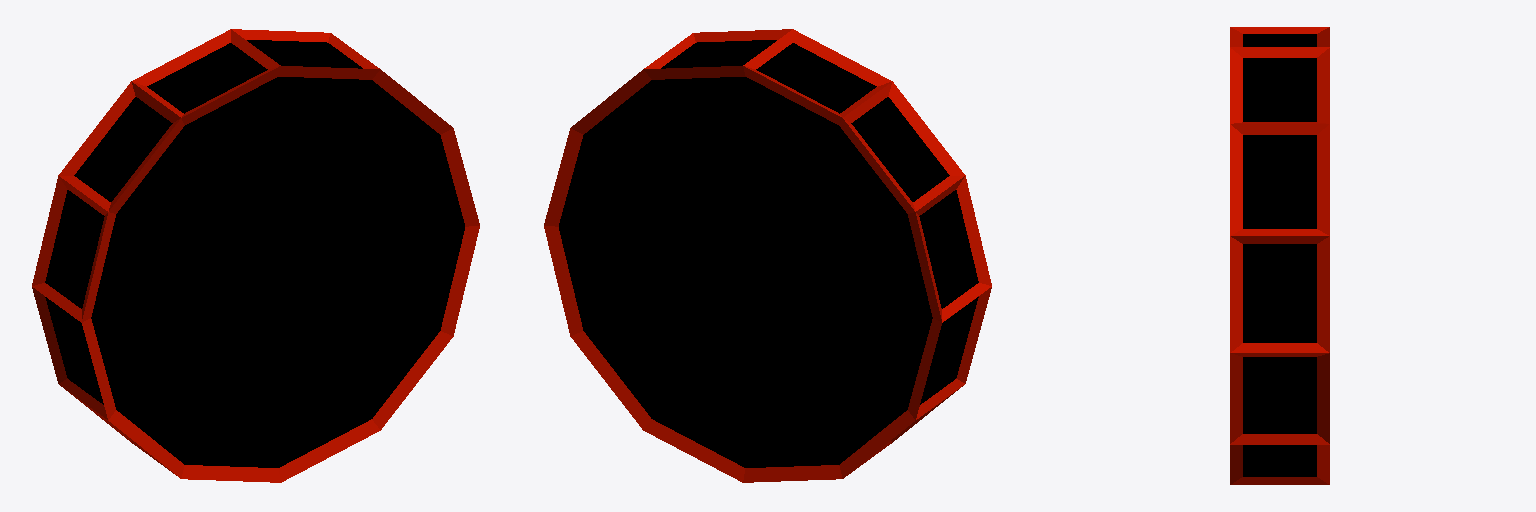
The model's file is coin_wired.obj.
The picture shows the model from 3 angles: view 1: azimuth 30°, elevation 25°; view 2: azimuth 150°, elevation 25°; view 3: azimuth 270°, elevation 25°; orthographic projection.
Parts seen in each view (by area): view 1: Cylinder, Cylinder.001; view 2: Cylinder, Cylinder.001; view 3: Cylinder, Cylinder.001.
Part boxes in pixels (x1,y1,x2,y2): Cylinder: (45, 40, 464, 467); Cylinder.001: (32, 29, 479, 482); Cylinder: (559, 40, 978, 467); Cylinder.001: (544, 29, 991, 482); Cylinder: (1243, 34, 1316, 476); Cylinder.001: (1230, 27, 1329, 484).
Size of the model in its own units: 2.05 by 2.05 by 0.4457.